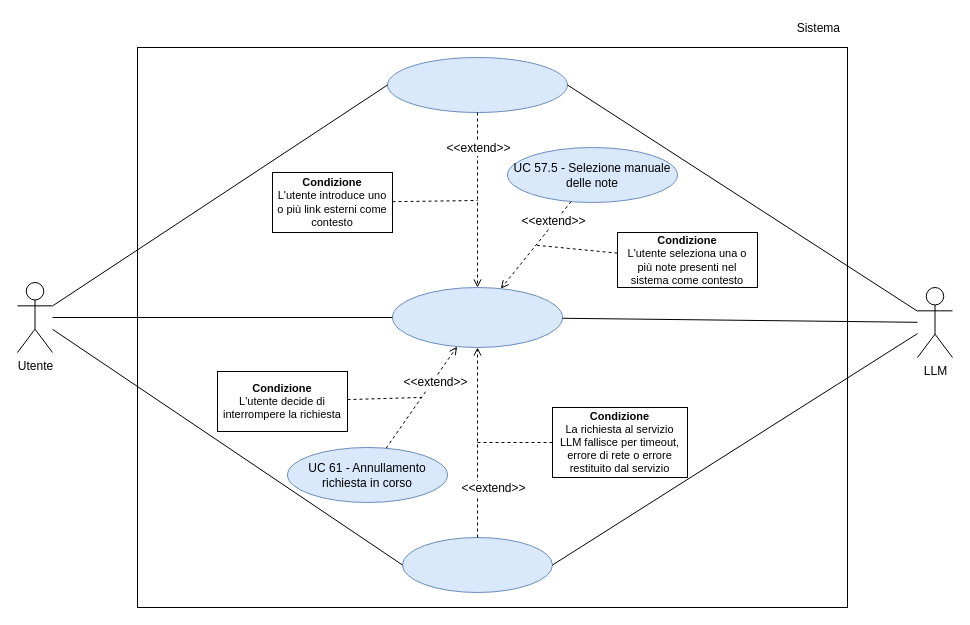
Some shapes in this 970 by 625 pixel diagram are drawn without their labels. The centre of each missing label's shape, as x and y in pixels:
UC 57 - Generazione automatica di testo: point (477, 317)
UC 57.4 - Generazione testo a partire da link: point (477, 84)
UC 62 - Errore LLM: point (477, 564)
